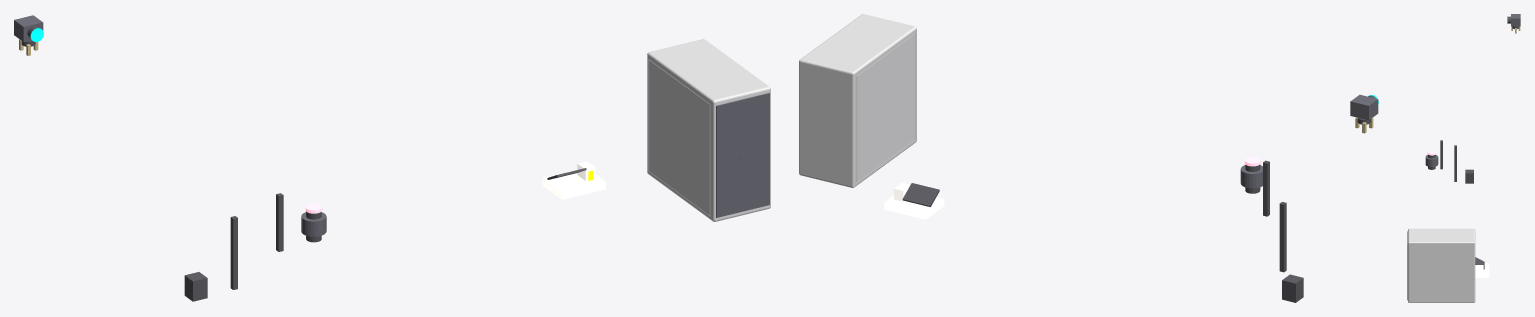
File: on-demand-projects.glb
3 views of the same model, side by side, from view 1: azimuth 30°, elevation 25°; view 2: azimuth 150°, elevation 25°; view 3: azimuth 270°, elevation 25° (orthographic). The views are drawn at different scales.
Parts seen in each view (by area): view 1: pc_chassis_frame, pc_glass_side_panel, pc_front_mesh, zenith_pedestal, mic_desk_clamp, mic_arm_lower, mic_shockmount; view 2: pc_chassis_frame, pc_glass_side_panel, zenith_pedestal, ai_cam_chassis, zenith_solar_panel, mic_arm_lower, mic_desk_clamp, mic_shockmount, mic_arm_upper; view 3: pc_chassis_frame, mic_shockmount, zenith_pedestal, mic_desk_clamp, ai_cam_chassis, mic_arm_lower.
Boxes of the visible parts, box(x1,y1,x2,y2) form: pc_chassis_frame: box(647, 39, 770, 221); pc_glass_side_panel: box(648, 59, 710, 215); pc_front_mesh: box(716, 93, 769, 217); zenith_pedestal: box(542, 169, 605, 199); mic_desk_clamp: box(184, 272, 207, 301); mic_arm_lower: box(230, 216, 237, 289); mic_shockmount: box(301, 212, 326, 236); pc_chassis_frame: box(799, 14, 916, 187); pc_glass_side_panel: box(856, 33, 915, 182); zenith_pedestal: box(884, 195, 944, 219); ai_cam_chassis: box(1350, 94, 1378, 120); zenith_solar_panel: box(902, 183, 939, 206); mic_arm_lower: box(1279, 202, 1286, 272); mic_desk_clamp: box(1282, 274, 1303, 302); mic_shockmount: box(1240, 165, 1262, 188); mic_arm_upper: box(1263, 160, 1269, 216); pc_chassis_frame: box(1408, 228, 1475, 302); mic_shockmount: box(1425, 155, 1438, 166); zenith_pedestal: box(1475, 263, 1489, 277); mic_desk_clamp: box(1465, 169, 1473, 183); ai_cam_chassis: box(1511, 14, 1520, 26); mic_arm_lower: box(1454, 145, 1456, 181).
Size of the model in its own units: 2.66 by 1.07 by 0.811.
